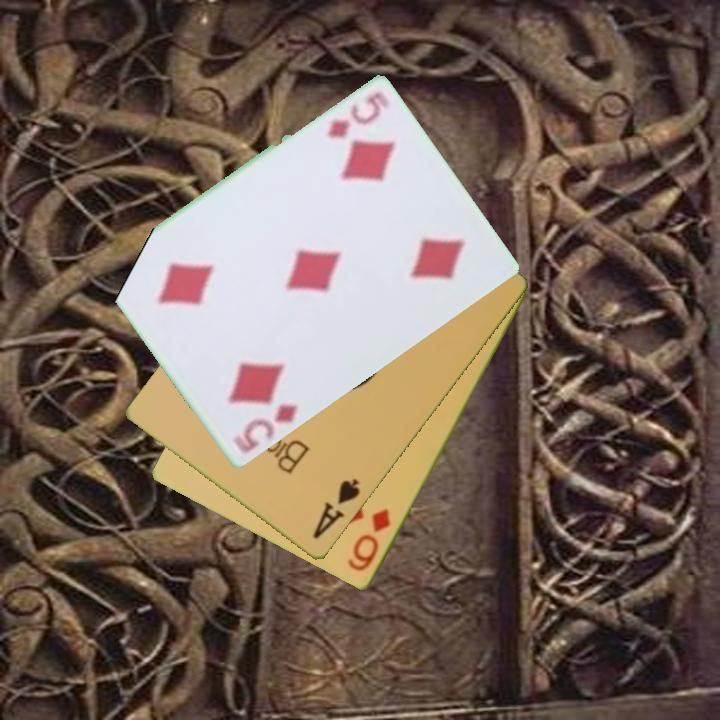5d: (229, 401, 301, 457), (323, 89, 384, 142)
6d: (344, 506, 394, 575)
As: (309, 475, 364, 543)
